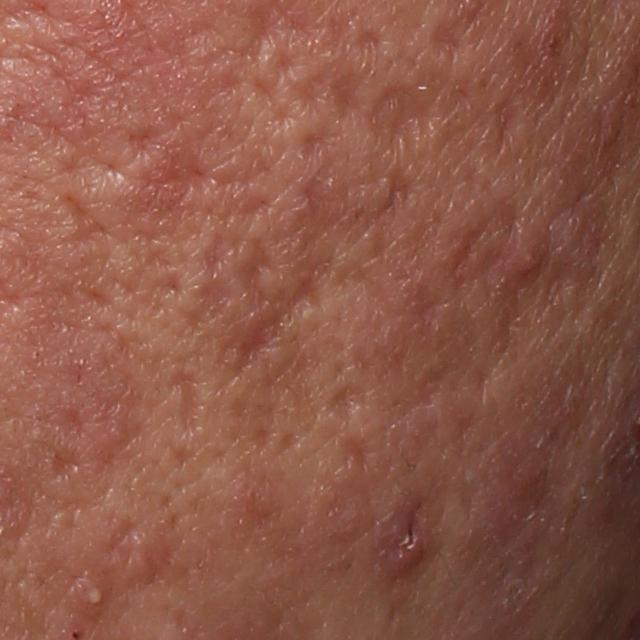atrophic_scar: (213, 236, 328, 395), (367, 85, 438, 158), (365, 162, 421, 243), (58, 181, 116, 258), (426, 13, 472, 67), (168, 366, 200, 441), (43, 437, 89, 485), (330, 71, 369, 123), (490, 98, 525, 152), (328, 381, 369, 427), (350, 22, 389, 60)
papule: (472, 438, 558, 538), (374, 502, 430, 581), (511, 220, 559, 280)
pustule: (70, 571, 111, 616)
